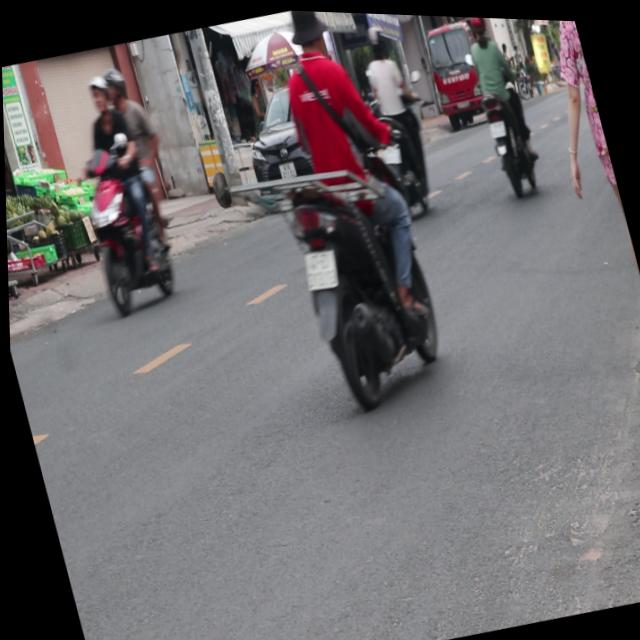helmet: (81, 67, 112, 113), (99, 61, 128, 104), (361, 19, 386, 57), (463, 13, 488, 38)
licenseplate: (230, 7, 457, 413), (39, 54, 195, 325), (345, 15, 442, 219), (452, 13, 544, 194)
motorcyclist: (283, 8, 329, 57)
nohelmet: (296, 243, 336, 287), (380, 141, 399, 161), (486, 114, 504, 133)
